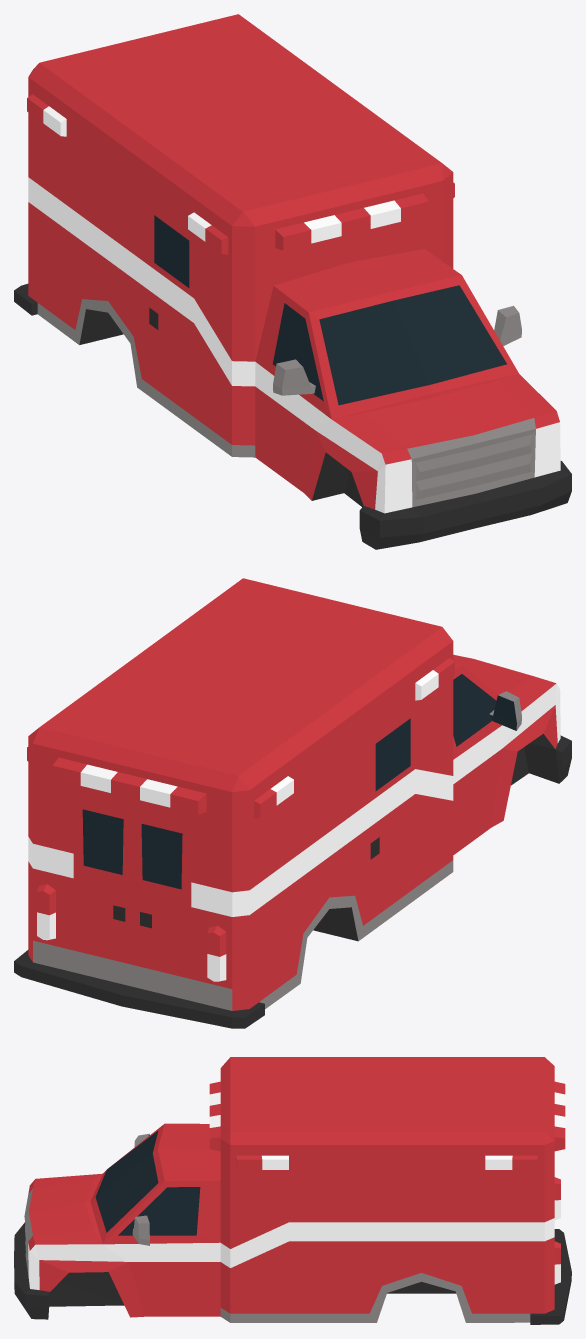
File: car-firefighter-pickup-base.glb
The picture shows the model from 3 angles, top to bottom: view 1: azimuth 30°, elevation 25°; view 2: azimuth 150°, elevation 25°; view 3: azimuth 270°, elevation 25°; orthographic projection. The views are drawn at different scales.
Parts seen in each view (by area): view 1: car-firefighter-pickup-base; view 2: car-firefighter-pickup-base; view 3: car-firefighter-pickup-base.
Boxes of the visible parts, x1,y1,x2,y2 form: car-firefighter-pickup-base: (14,14,571,549); car-firefighter-pickup-base: (14,578,571,1028); car-firefighter-pickup-base: (14,1057,571,1324).
Size of the model in its own units: 2.43 by 2.33 by 6.24.
1 material, 1 textured.
